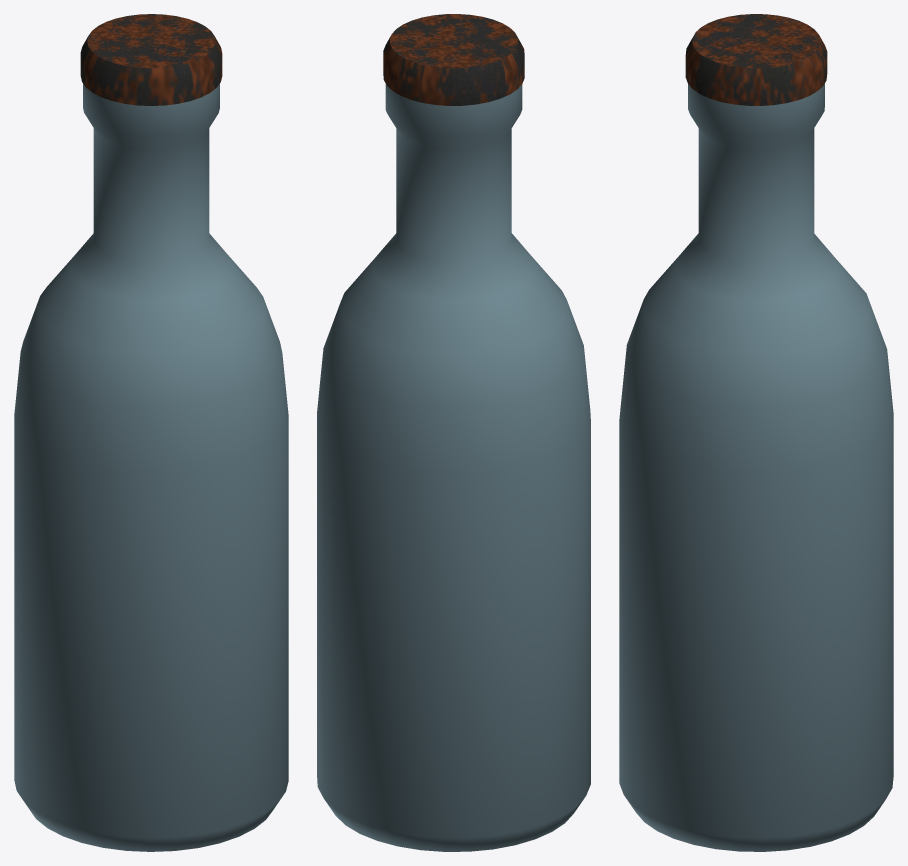
File: SM_Bottle_82c645aeef.fbx
3 renders of one model, left to right at view 1: azimuth 30°, elevation 25°; view 2: azimuth 150°, elevation 25°; view 3: azimuth 270°, elevation 25°, orthographic.
Visible parts, largest first — view 1: SM_Bottle_82c645aeef; view 2: SM_Bottle_82c645aeef; view 3: SM_Bottle_82c645aeef.
Boxes of the visible parts, bbox=[...] form: SM_Bottle_82c645aeef: bbox=[14, 14, 288, 851]; SM_Bottle_82c645aeef: bbox=[317, 14, 590, 851]; SM_Bottle_82c645aeef: bbox=[619, 14, 893, 851].
Size of what is drawn, in the model's own units: 12.78 by 12.78 by 39.4.
Materials: 2 (1 with a texture image).
